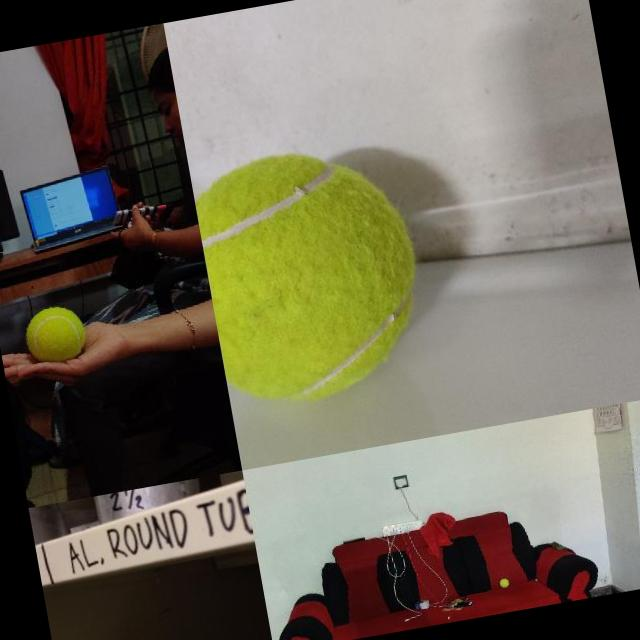tennis-ball: (188, 130, 442, 417), (22, 303, 87, 363), (498, 577, 509, 588)
